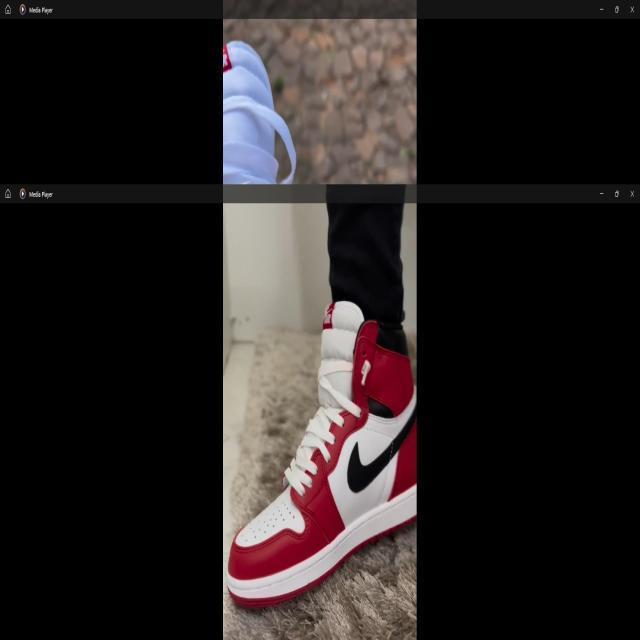nike original jordan 1: (227, 298, 417, 606)
